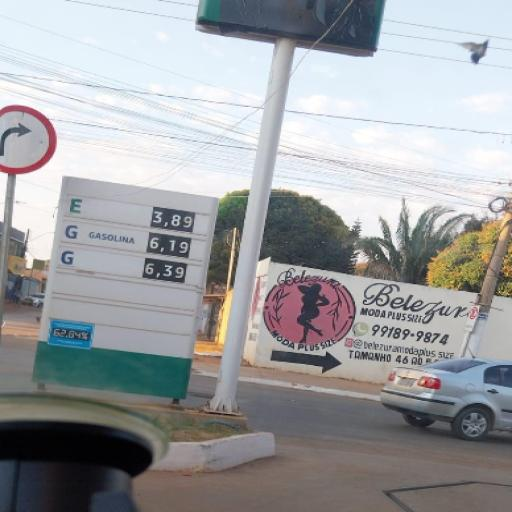ETANOL: (68, 198, 126, 218)
GASOLINA AD: (58, 247, 114, 269)
GASOLINA C: (67, 222, 121, 249)
placa: (36, 179, 216, 397)
preco: (144, 261, 192, 284), (149, 234, 196, 257), (150, 208, 198, 230)
